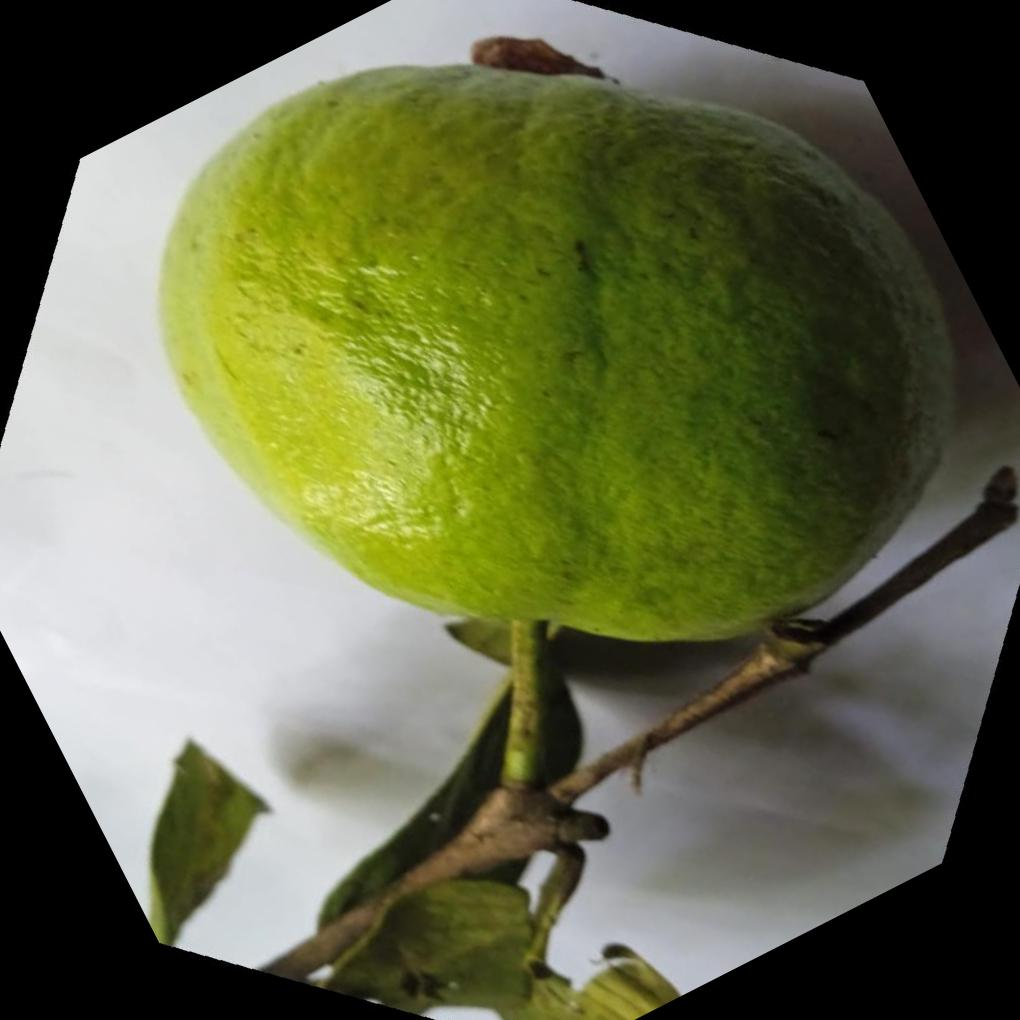FreshGuava: (153, 58, 955, 640)
